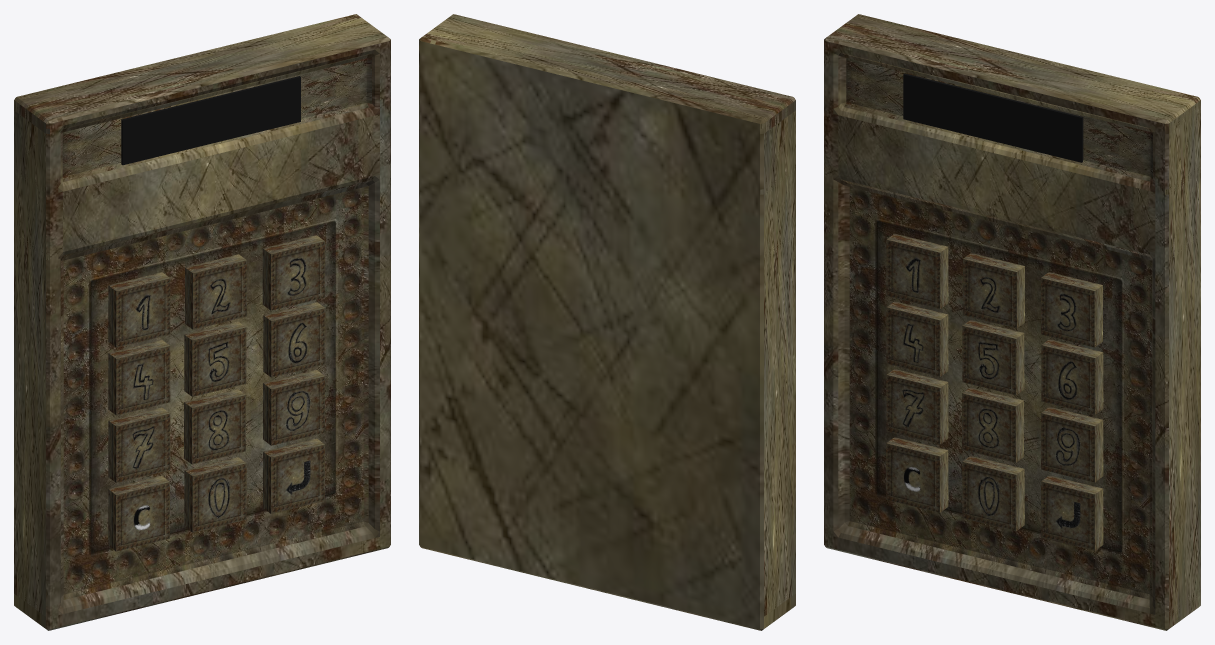
3 renders of one model, left to right at view 1: azimuth 30°, elevation 25°; view 2: azimuth 150°, elevation 25°; view 3: azimuth 330°, elevation 25°, orthographic.
Parts seen in each view (by area): view 1: code_box-material (×2), code1-material (×12), slot-material (×4), _-material, _7-material, _6-material, _5-material, _8-material, _2-material, _9-material, _4-material, _3-material (+3 smaller); view 2: code_box-material; view 3: code_box-material (×2), code1-material (×12), slot-material (×4), _5-material, _-material, _7-material, _8-material, _6-material, _2-material, _10-material, _4-material, _3-material (+3 smaller).
Part boxes in pixels (x1,y1,x2,y2): code_box-material (×2): [14, 14, 390, 630]; code1-material (×12): [62, 57, 371, 551]; slot-material (×4): [121, 76, 300, 165]; _-material: [192, 463, 246, 532]; _7-material: [271, 308, 325, 377]; _6-material: [192, 327, 246, 396]; _5-material: [116, 346, 170, 415]; _8-material: [116, 413, 170, 482]; _2-material: [116, 278, 170, 347]; _9-material: [192, 395, 245, 464]; _4-material: [271, 241, 324, 310]; _3-material: [193, 260, 246, 329]; code_box-material: [419, 14, 795, 630]; code_box-material (×2): [824, 14, 1200, 630]; code1-material (×12): [844, 58, 1152, 550]; slot-material (×4): [903, 73, 1083, 162]; _5-material: [886, 307, 940, 376]; _-material: [962, 462, 1016, 531]; _7-material: [1041, 345, 1095, 414]; _8-material: [886, 375, 940, 444]; _6-material: [962, 326, 1016, 395]; _2-material: [886, 239, 940, 308]; _10-material: [1041, 413, 1094, 482]; _4-material: [1041, 278, 1094, 347]; _3-material: [963, 259, 1016, 328].
Size of the model in its own units: 2.78 by 3.93 by 0.5239.
Materials: 15 (14 with a texture image).
